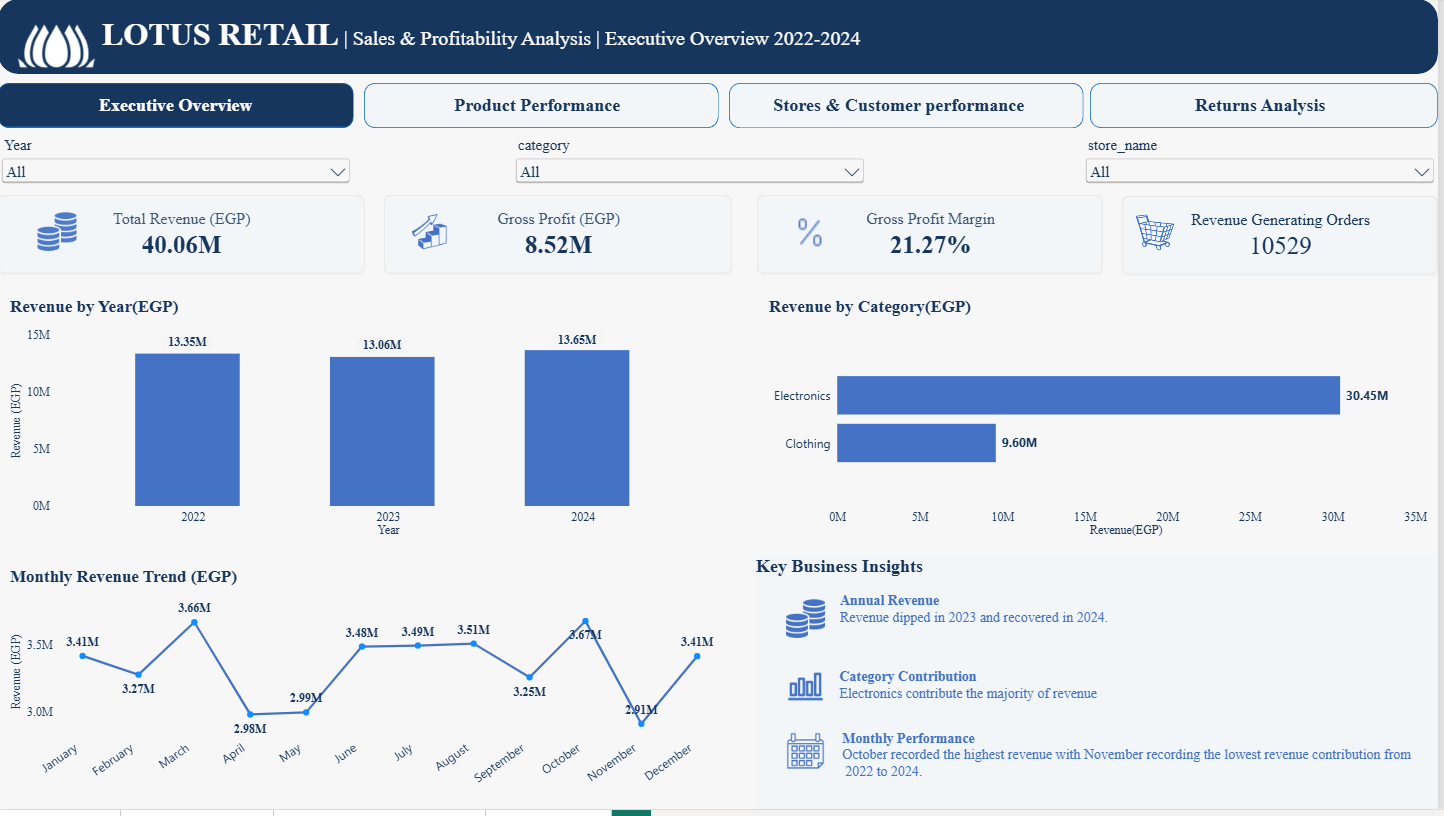

Layout of this report page (visuals, bound fields, positions):
{"tool":"powerbi","page":{"name":"Executive Overview","canvas":[1920,1080],"ordinal":0},"visuals":[{"type":"shape","box":[0,0,1920,100],"z":0},{"type":"textbox","box":[138.9,22.2,1359.7,77.8],"z":1000},{"type":"cardVisual","fields":{"Data":["Measures (2).Total Revenue (EGP)"]},"box":[0,261.4,488.6,105.7],"z":2000},{"type":"cardVisual","fields":{"Data":["Measures (2).Gross Profit"]},"box":[514.3,261.4,464.3,105.7],"z":3000},{"type":"cardVisual","fields":{"Data":["Measures (2).Gross Profit Margin"]},"box":[1011.4,261.4,461.4,105.7],"z":4000},{"type":"cardVisual","fields":{"Data":["Measures (2).Revenue Generating Orders"]},"box":[1498.6,262.9,421.4,105.7],"z":5000},{"type":"clusteredColumnChart","title":"Revenue by Year(EGP)","fields":{"Category":["dim_date.year"],"Y":["Measures (2).Total Revenue"]},"box":[0,382.1,978.1,349.3],"z":6000},{"type":"barChart","title":"Revenue by Category(EGP)","fields":{"Category":["Products.category"],"Y":["Measures (2).Total Revenue"]},"box":[1011.7,382.1,909.6,349.3],"z":7000},{"type":"image","box":[50,284.3,56,52],"z":8000},{"type":"image","box":[1514.3,284.3,56.4,52],"z":9000},{"type":"image","box":[548.6,284.3,55.7,51.4],"z":10000},{"type":"image","box":[1054.3,284.3,56,52],"z":11000},{"type":"lineChart","title":"Monthly Revenue Trend (EGP)","fields":{"Category":["dim_date.Date Hierarchy.full_date","dim_date.Date Hierarchy.year","dim_date.Date Hierarchy.month_name","dim_date.Date Hierarchy.quarter_name","dim_date.Date Hierarchy.day_number"],"Y":["Measures (2).Total Revenue (EGP)"]},"box":[0,742.3,978.1,338.4],"z":12000},{"type":"image","box":[0,0,156.9,126.4],"z":13000},{"type":"textbox","box":[1011,742.5,909.6,337],"z":14000},{"type":"image","box":[1042.5,800,67.1,52.1],"z":15000},{"type":"image","box":[1042.5,890.4,67.1,52],"z":16000},{"type":"image","box":[1042.5,976.7,67,52],"z":17000},{"type":"shape","box":[0,111.4,474.3,60],"z":18000},{"type":"shape","box":[488.6,111.4,472.9,60],"z":19000},{"type":"shape","box":[974.3,111.4,472.6,60.3],"z":21000},{"type":"shape","box":[1456.4,111.7,463.6,60],"z":23000},{"type":"slicer","fields":{"Values":["dim_date.Year"]},"box":[0,182.9,474.3,64.3],"z":25000},{"type":"slicer","fields":{"Values":["Products.category"]},"box":[685.7,182.9,474.3,64.3],"z":26000},{"type":"slicer","fields":{"Values":["Stores.store_name"]},"box":[1445.7,182.9,474.3,64.3],"z":27000},{"type":"pageNavigator","box":[0,111.6,1920,60.4],"z":28000}]}

Visuals, with their boxes in screenshot pixels (x1, y1, x2, y2), scaled from the page's 1920x1080 canvas onto the 1444x816 screenshot:
shape: [0, 0, 1443, 76]
textbox: [104, 17, 1127, 76]
cardVisual - Measures (2).Total Revenue (EGP): [0, 198, 367, 277]
cardVisual - Measures (2).Gross Profit: [387, 198, 736, 277]
cardVisual - Measures (2).Gross Profit Margin: [761, 198, 1108, 277]
cardVisual - Measures (2).Revenue Generating Orders: [1127, 199, 1443, 278]
"Revenue by Year(EGP)" clusteredColumnChart: [0, 289, 736, 553]
"Revenue by Category(EGP)" barChart: [761, 289, 1443, 553]
image: [38, 215, 80, 254]
image: [1139, 215, 1181, 254]
image: [413, 215, 454, 254]
image: [793, 215, 835, 254]
"Monthly Revenue Trend (EGP)" lineChart: [0, 561, 736, 815]
image: [0, 0, 118, 96]
textbox: [760, 561, 1443, 815]
image: [784, 604, 835, 644]
image: [784, 673, 835, 712]
image: [784, 738, 834, 777]
shape: [0, 84, 357, 130]
shape: [367, 84, 723, 130]
shape: [733, 84, 1088, 130]
shape: [1095, 84, 1443, 130]
slicer - dim_date.Year: [0, 138, 357, 187]
slicer - Products.category: [516, 138, 872, 187]
slicer - Stores.store_name: [1087, 138, 1443, 187]
pageNavigator: [0, 84, 1443, 130]
